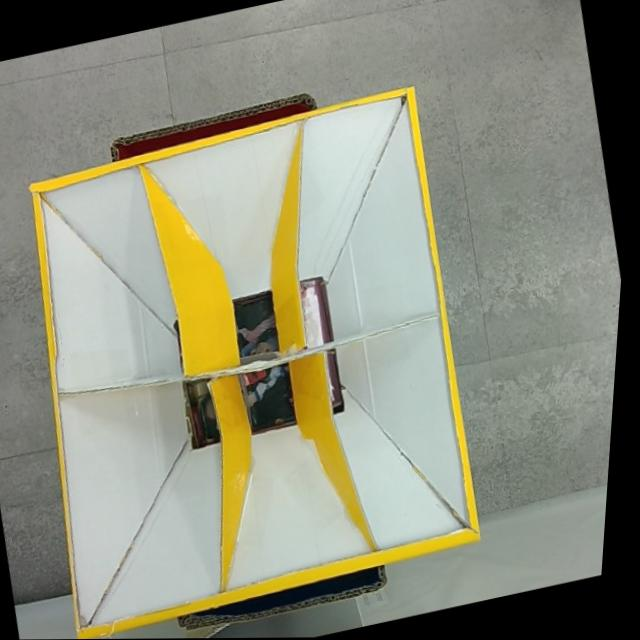box: (0, 67, 519, 640)
